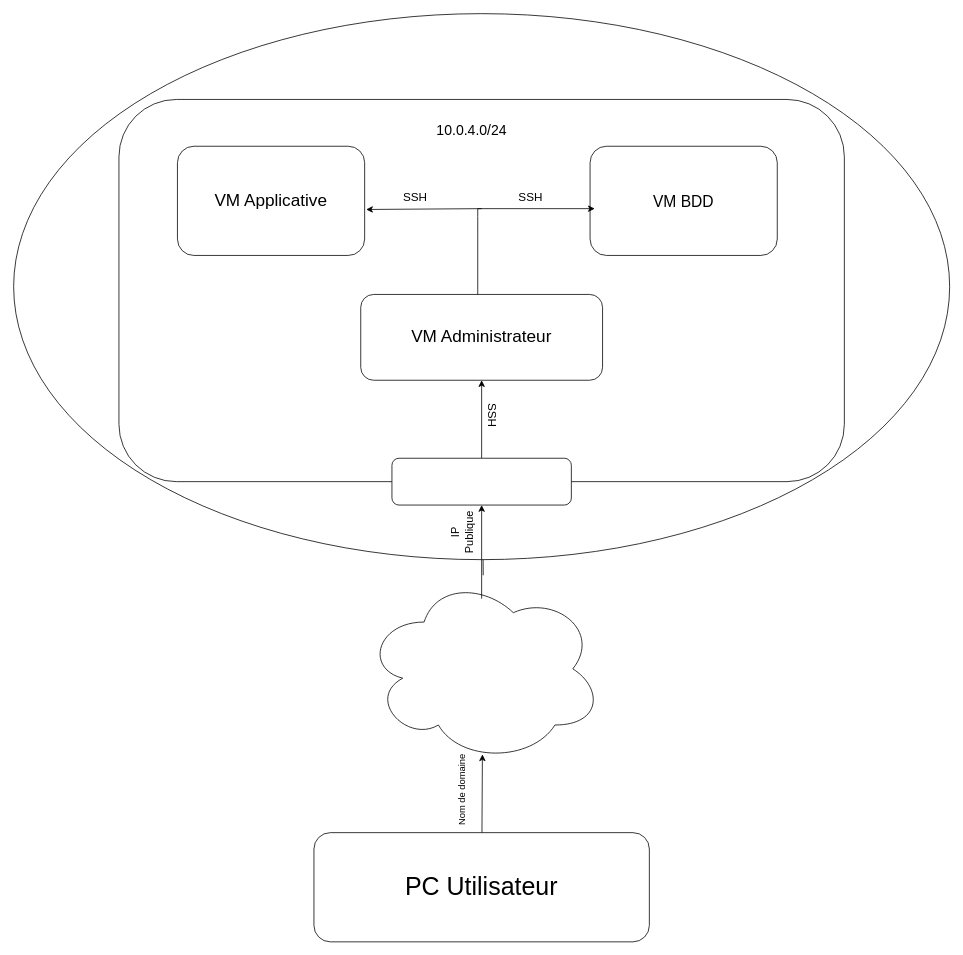
This 963x955 diagram has some shape labels left out. The shapes that lost their labels are listed below. From the top down, each one's centre as x and y in pixels, then its label:
(x=481, y=481): Carte réseau / IP Publique
(x=483, y=668): Internet
